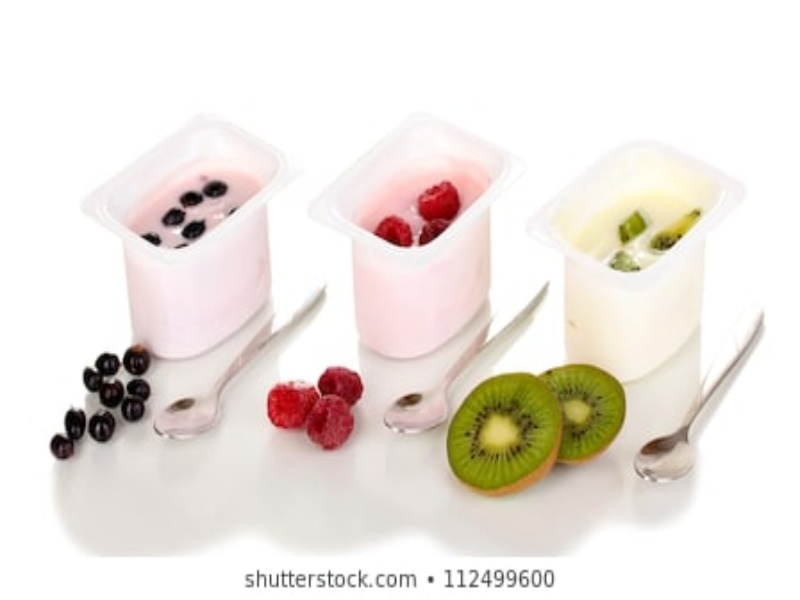yogurt-cup: (307, 109, 527, 361), (80, 104, 292, 362), (530, 130, 736, 379)
